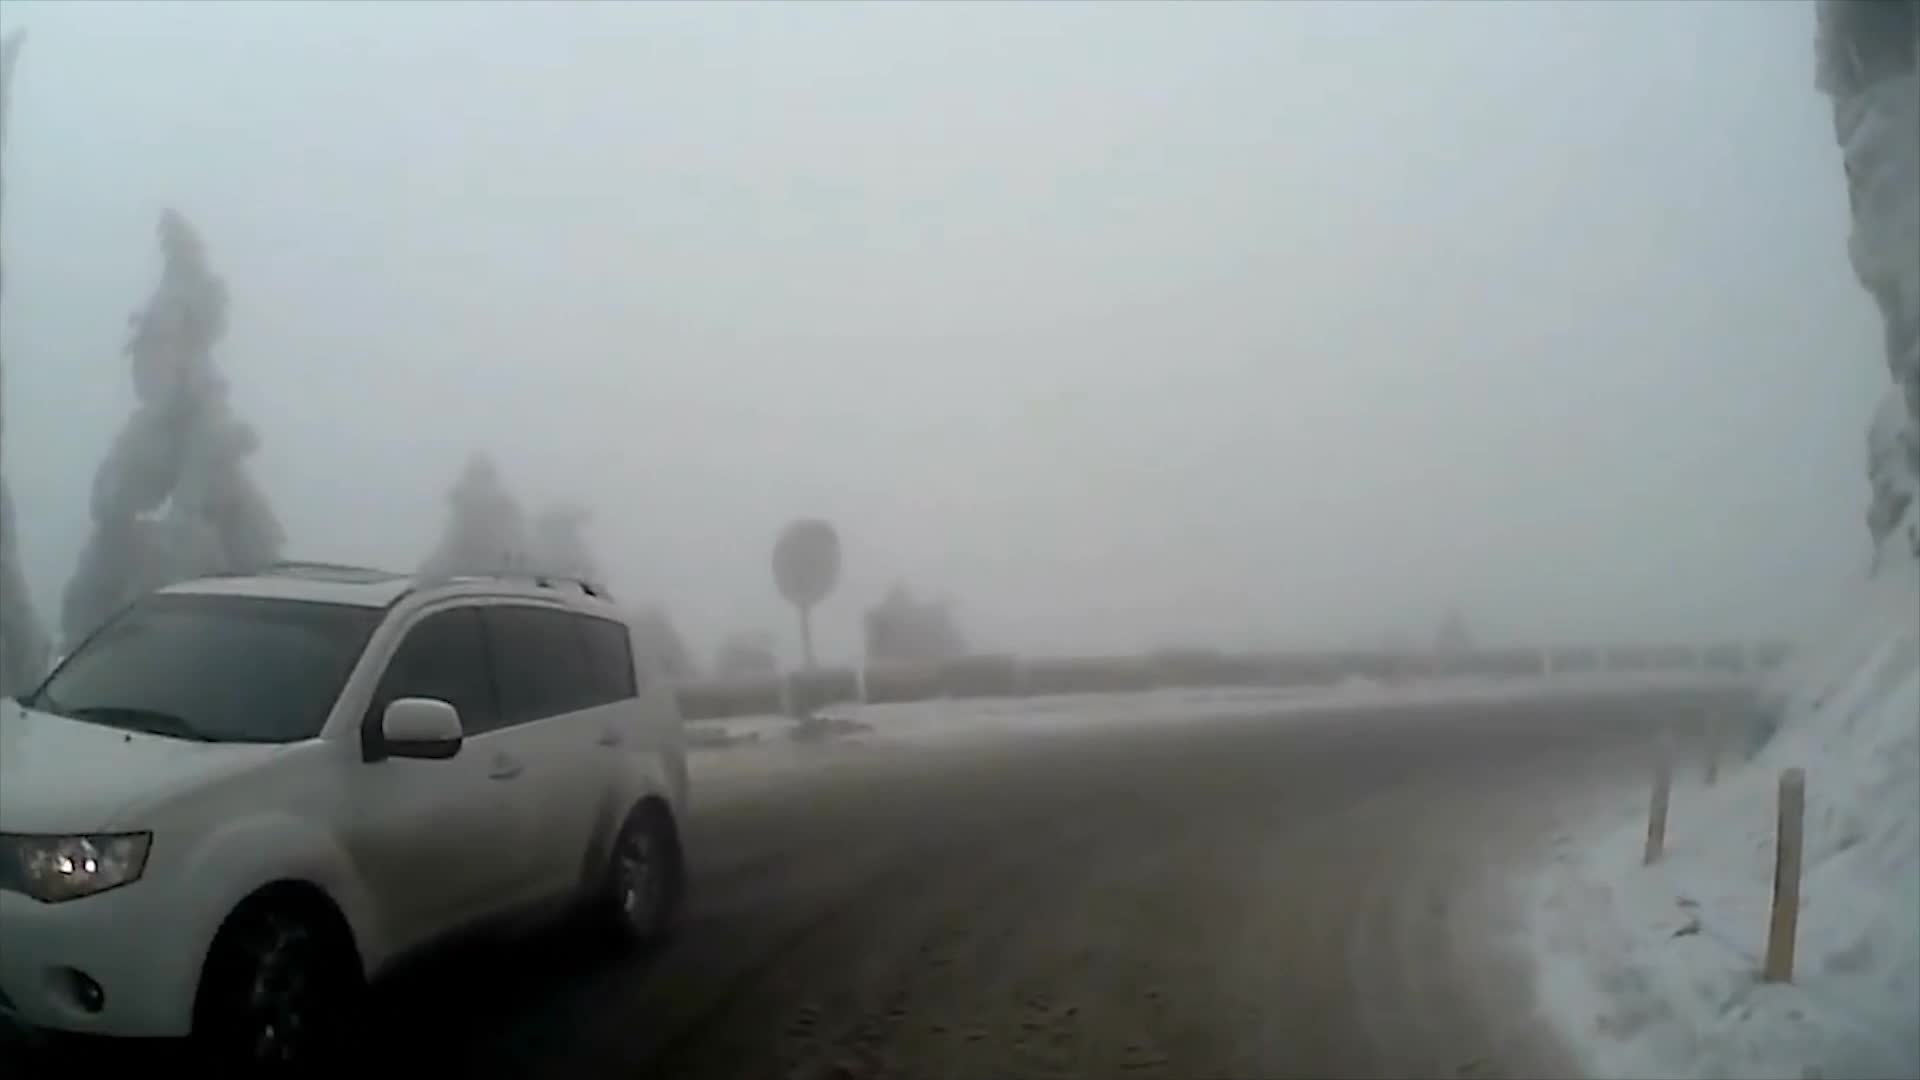vehicle: (0, 554, 694, 1080)
